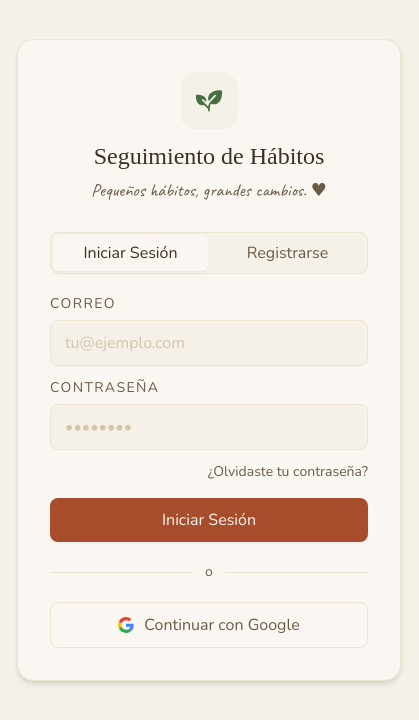
Scenario: Login › sends a password reset email and shows a confirmation
Step 1. Type "user@example.com" into the field with placeholder "tu@ejemplo.com" → [209, 343], box [50,320,368,366]
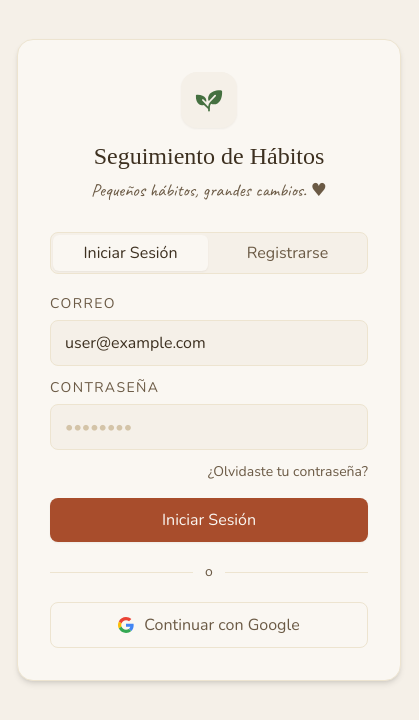
Step 2. Click the button "¿Olvidaste tu contraseña?" → [288, 472], box [208,462,368,482]
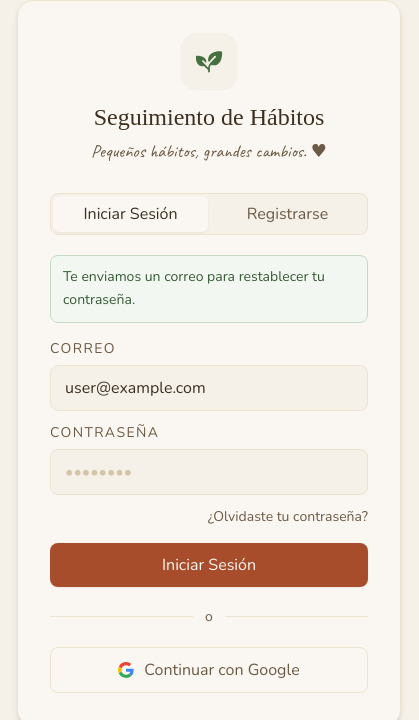
Expected: the text "Te enviamos un correo para restablecer tu contraseña." is shown, [50,255,368,322]
